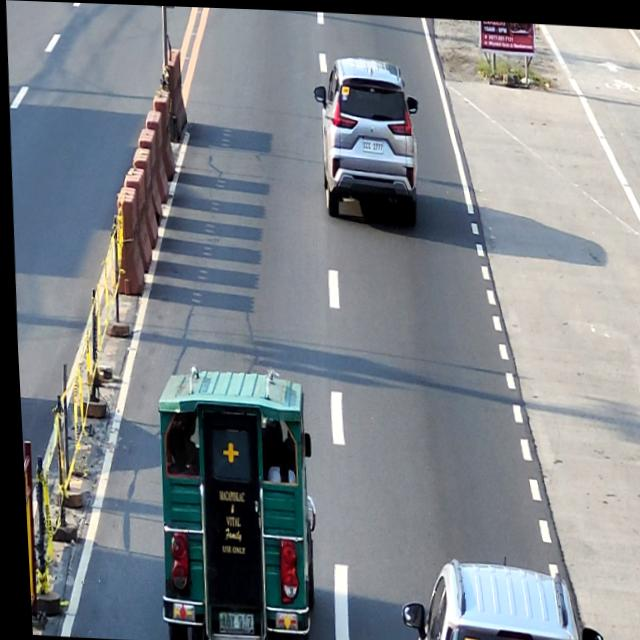Car: (309, 54, 423, 223), (391, 550, 597, 640)
Jeep: (144, 362, 318, 640)
License-Plate: (211, 610, 248, 635), (360, 135, 383, 151)
